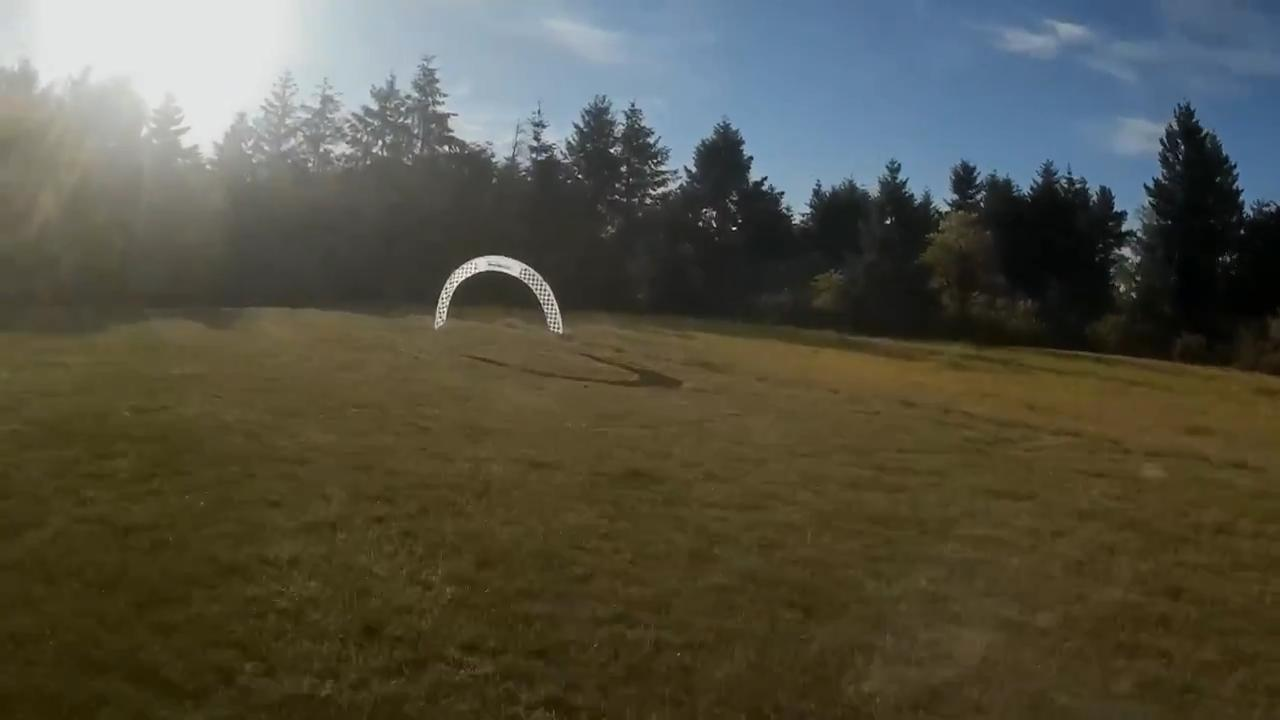gate: (433, 254, 560, 335)
